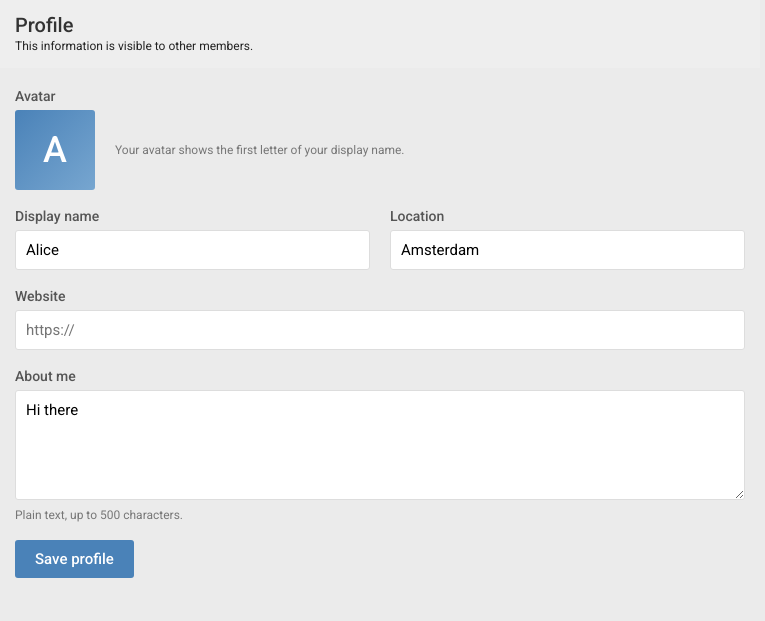
it: profile: prefilled, only changed fields are sent, success is announced
This screenshot has width=765, height=621.
Check: the field labelled "Location" holds "Amsterdam", box [390,230,745,270]
Check: the text box labelled "About me" holds "Hi there", box [15,390,745,500]
Replace the text in the field labelled "Display name" with "Alice B." at (192, 250), box [15,230,370,270]
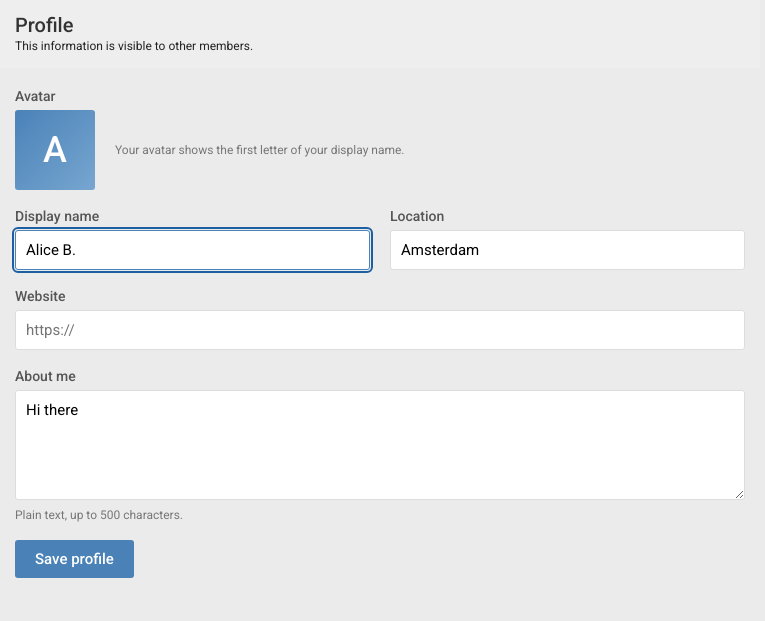
Type "https://alice.dev" into the field labelled "Website" at (380, 330), box [15,310,745,350]
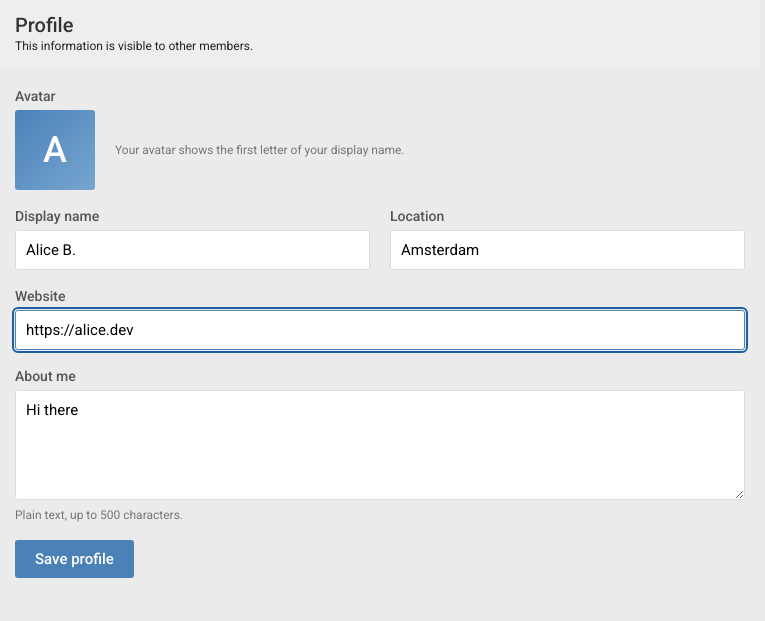
Click the button "Save profile" at (74, 559), box [15,540,134,578]
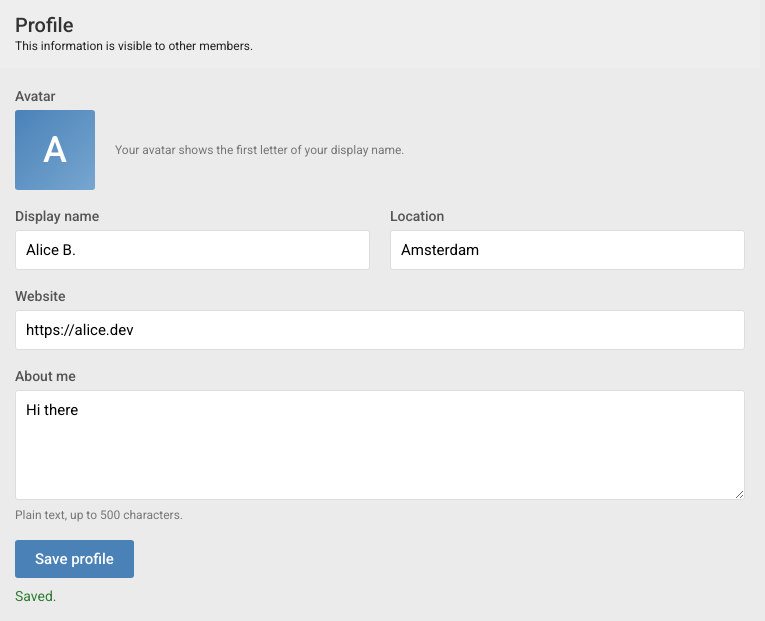
Check: the message reads "Saved.", box [15,588,56,604]
